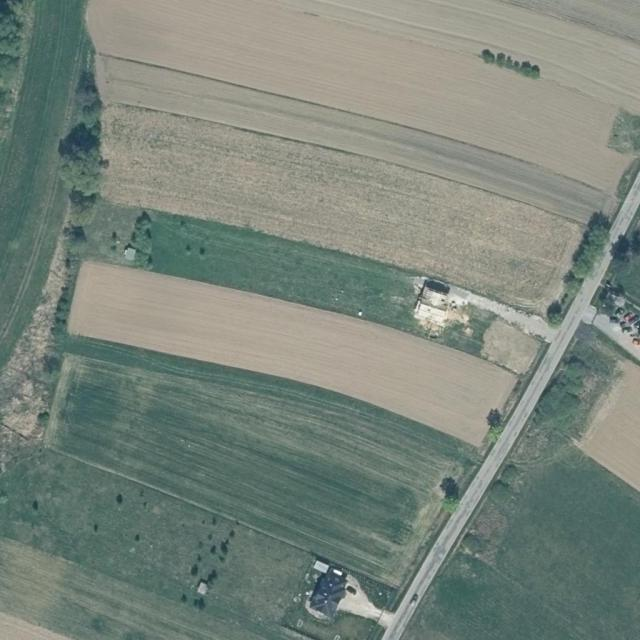agricultural_land: (29, 290, 481, 597), (32, 291, 476, 596), (62, 243, 521, 452), (137, 205, 439, 337)
building: (411, 278, 454, 338)
greenland: (56, 67, 104, 244), (565, 208, 618, 284), (129, 210, 153, 268), (439, 475, 461, 500), (546, 300, 563, 324), (486, 409, 501, 428)
